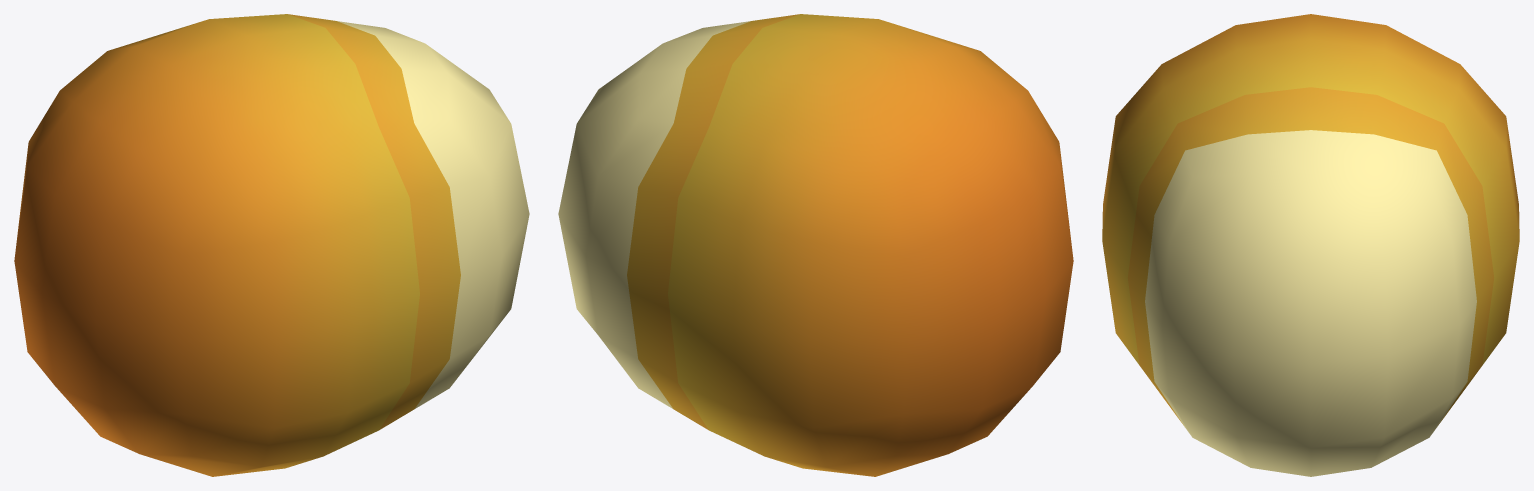
The model's file is Popcorn_Unpopped.fbx.
The picture shows the model from 3 angles, left to right: view 1: azimuth 30°, elevation 25°; view 2: azimuth 150°, elevation 25°; view 3: azimuth 270°, elevation 25°; orthographic projection. The views are drawn at different scales.
Parts seen in each view (by area): view 1: Popcorn_Unpopped; view 2: Popcorn_Unpopped; view 3: Popcorn_Unpopped.
Boxes of the visible parts, x1=… form: Popcorn_Unpopped: x1=14, y1=14, x2=529, y2=476; Popcorn_Unpopped: x1=558, y1=14, x2=1073, y2=476; Popcorn_Unpopped: x1=1102, y1=14, x2=1519, y2=476.
Bounding box in the file's own units: 123 × 105 × 98.79.
